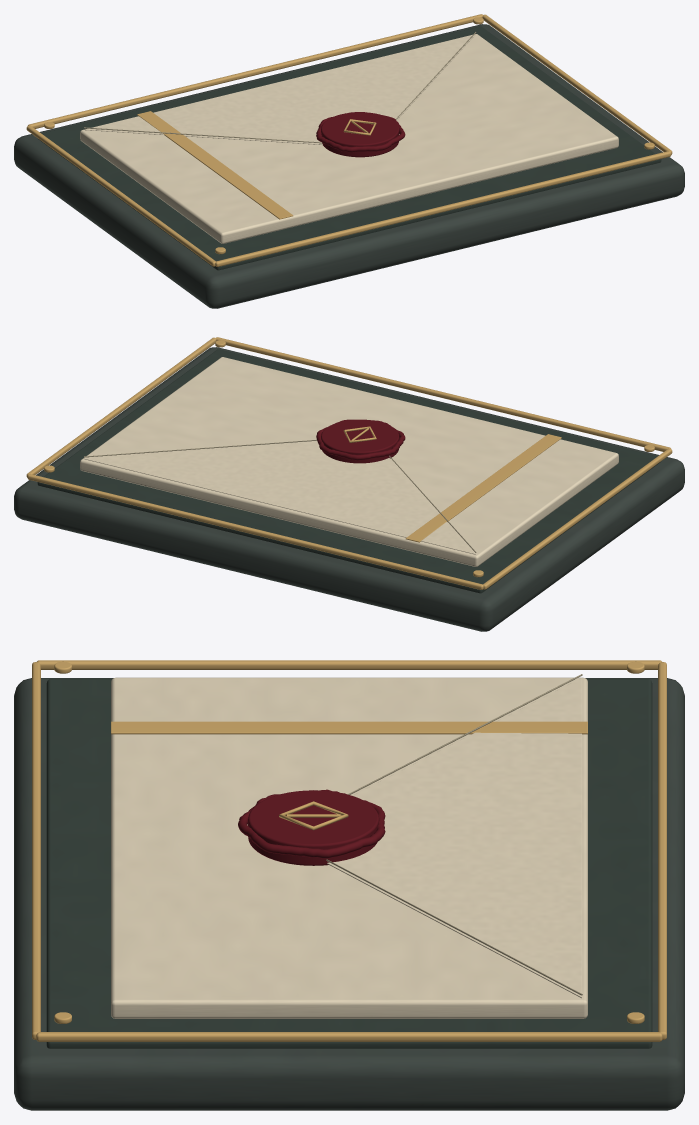
The model's file is sealed-letter.glb.
3 renders of one model, top to bottom at view 1: azimuth 30°, elevation 25°; view 2: azimuth 150°, elevation 25°; view 3: azimuth 270°, elevation 25°, orthographic. The views are drawn at different scales.
Parts seen in each view (by area): view 1: Letter_Envelope, Archive_Tray, Tray_Felt_Insert, Folded_Envelope_Flap, Tray_Brass_Rim_Front, Tray_Brass_Rim_Back, Wax_Seal, Archive_Band, Tray_Brass_Rim_Left, Tray_Brass_Rim_Right, Wax_Organic_Rim, Fold_Edge; view 2: Letter_Envelope, Archive_Tray, Tray_Felt_Insert, Folded_Envelope_Flap, Tray_Brass_Rim_Back, Tray_Brass_Rim_Front, Wax_Seal, Archive_Band, Tray_Brass_Rim_Left, Tray_Brass_Rim_Right, Wax_Organic_Rim, Fold_Edge; view 3: Letter_Envelope, Archive_Tray, Tray_Felt_Insert, Folded_Envelope_Flap, Wax_Seal, Archive_Band, Tray_Brass_Rim_Right, Tray_Brass_Rim_Left, Tray_Brass_Rim_Back, Tray_Brass_Rim_Front, Wax_Organic_Rim, Fold_Edge.
Boxes of the visible parts, bbox=[...] form: Letter_Envelope: bbox=[80, 34, 618, 243]; Archive_Tray: bbox=[14, 24, 684, 308]; Tray_Felt_Insert: bbox=[38, 26, 661, 270]; Folded_Envelope_Flap: bbox=[84, 34, 475, 144]; Tray_Brass_Rim_Front: bbox=[215, 151, 671, 266]; Tray_Brass_Rim_Back: bbox=[28, 14, 482, 128]; Wax_Seal: bbox=[321, 112, 399, 157]; Archive_Band: bbox=[137, 111, 293, 219]; Tray_Brass_Rim_Left: bbox=[26, 125, 215, 266]; Tray_Brass_Rim_Right: bbox=[482, 14, 672, 154]; Wax_Organic_Rim: bbox=[316, 112, 405, 152]; Fold_Edge: bbox=[84, 32, 476, 143]; Letter_Envelope: bbox=[80, 357, 618, 566]; Archive_Tray: bbox=[14, 347, 684, 631]; Tray_Felt_Insert: bbox=[37, 349, 660, 593]; Folded_Envelope_Flap: bbox=[84, 442, 475, 554]; Tray_Brass_Rim_Back: bbox=[27, 474, 483, 589]; Tray_Brass_Rim_Front: bbox=[216, 337, 670, 451]; Wax_Seal: bbox=[321, 419, 399, 463]; Archive_Band: bbox=[405, 434, 561, 542]; Tray_Brass_Rim_Left: bbox=[483, 448, 672, 589]; Tray_Brass_Rim_Right: bbox=[26, 337, 216, 477]; Wax_Organic_Rim: bbox=[316, 419, 405, 460]; Fold_Edge: bbox=[84, 439, 476, 552]; Letter_Envelope: bbox=[111, 677, 587, 1018]; Archive_Tray: bbox=[14, 678, 684, 1110]; Tray_Felt_Insert: bbox=[46, 679, 652, 1048]; Folded_Envelope_Flap: bbox=[327, 678, 581, 998]; Wax_Seal: bbox=[248, 790, 379, 865]; Archive_Band: bbox=[111, 721, 587, 734]; Tray_Brass_Rim_Right: bbox=[36, 1032, 662, 1041]; Tray_Brass_Rim_Left: bbox=[37, 660, 661, 669]; Tray_Brass_Rim_Back: bbox=[658, 662, 666, 1039]; Tray_Brass_Rim_Front: bbox=[32, 662, 40, 1039]; Wax_Organic_Rim: bbox=[238, 789, 385, 858]; Fold_Edge: bbox=[326, 674, 582, 995].
Bounding box in the file's own units: 0.31 × 0.0397 × 0.225.
6 materials, 4 textured.
